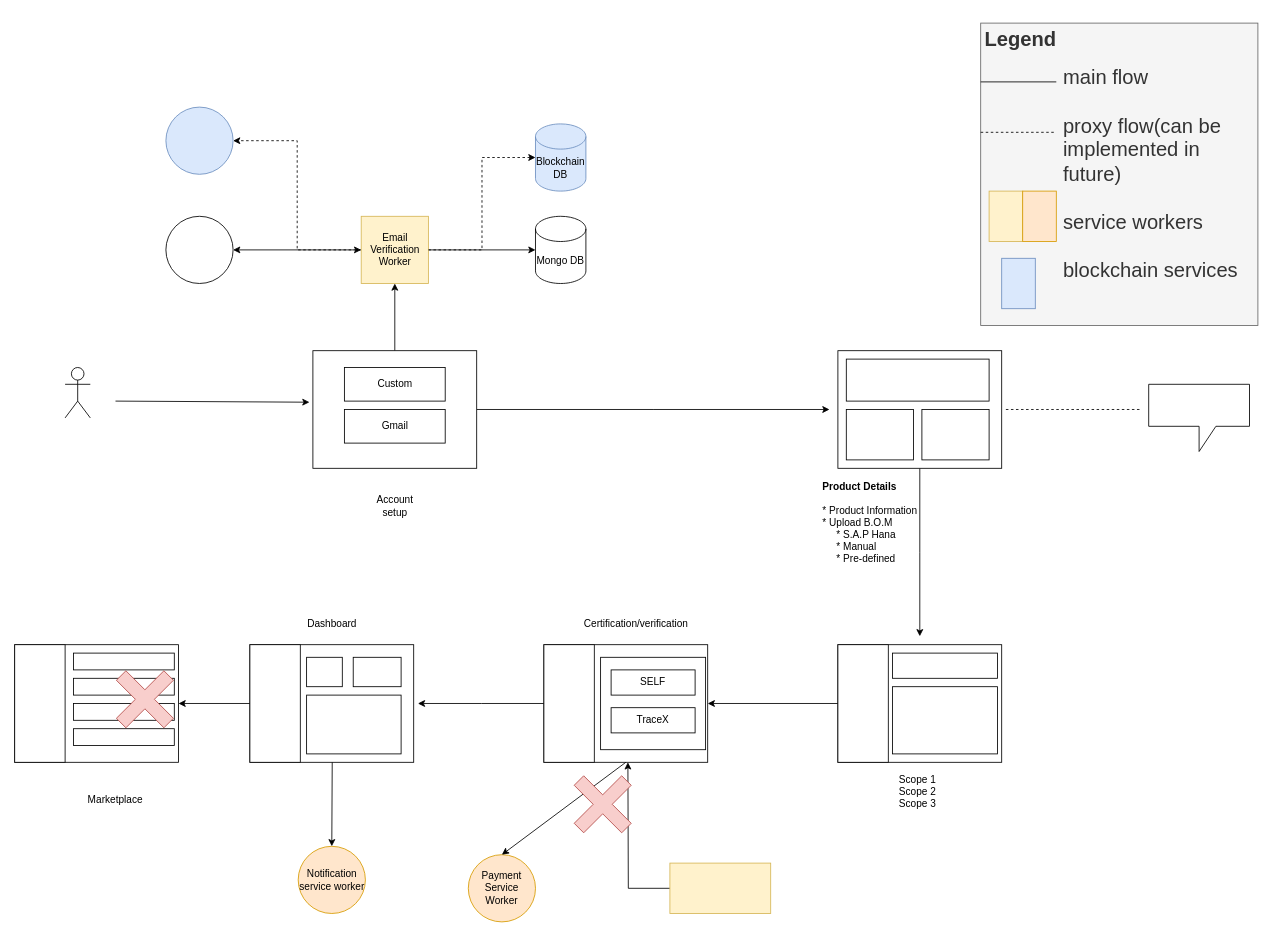
Image size: 1273x937. Some labels were removed from this diagram. Each missing label, with the box of its shape:
Email to Sub Suppliers: (1148, 383, 1250, 452)
oAuth: (165, 215, 233, 284)
Supplier: (64, 367, 90, 418)
Verification service worker: (669, 862, 771, 914)
Wallet provider: (165, 106, 233, 174)
